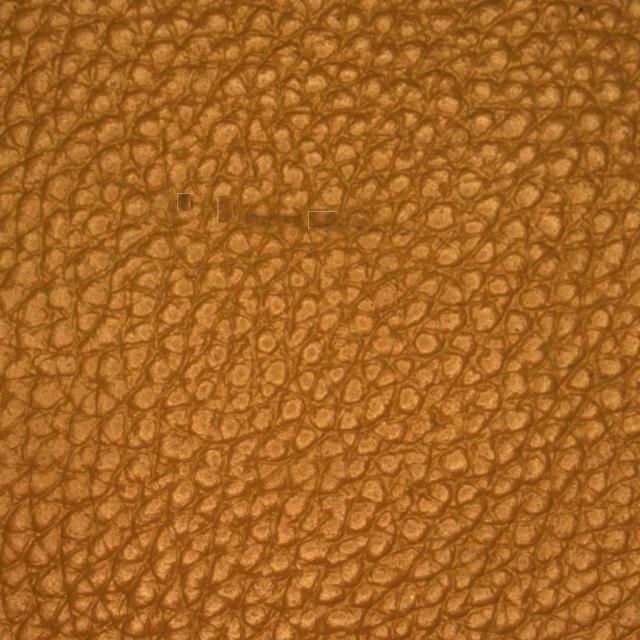Healed Injury: (232, 175, 412, 279)
